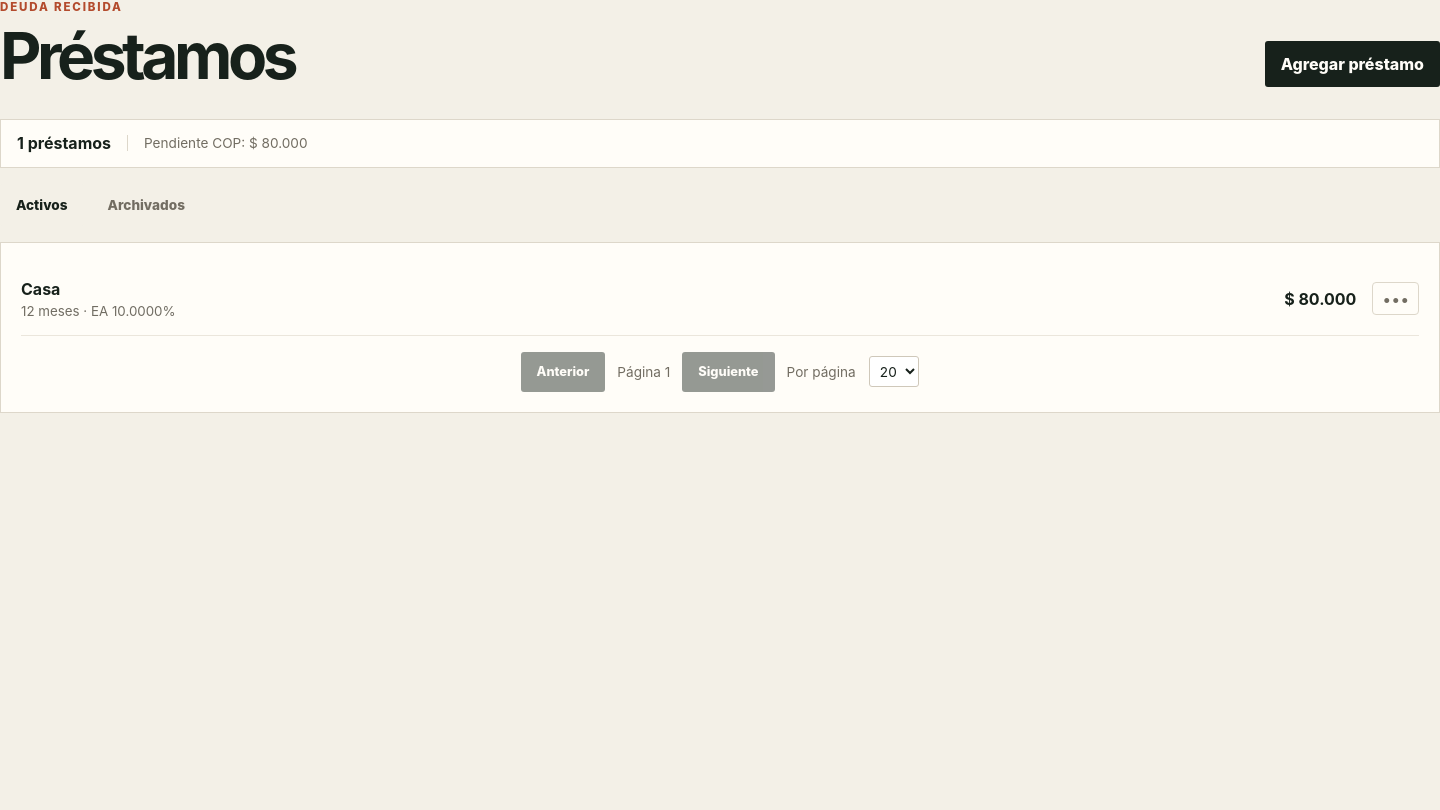
loan closing › only allows the loan name to be edited
expect the text "Casa" is shown: met, box [21, 279, 60, 299]
Click the heading named "Acciones" at (1396, 299), box [1372, 282, 1419, 315]
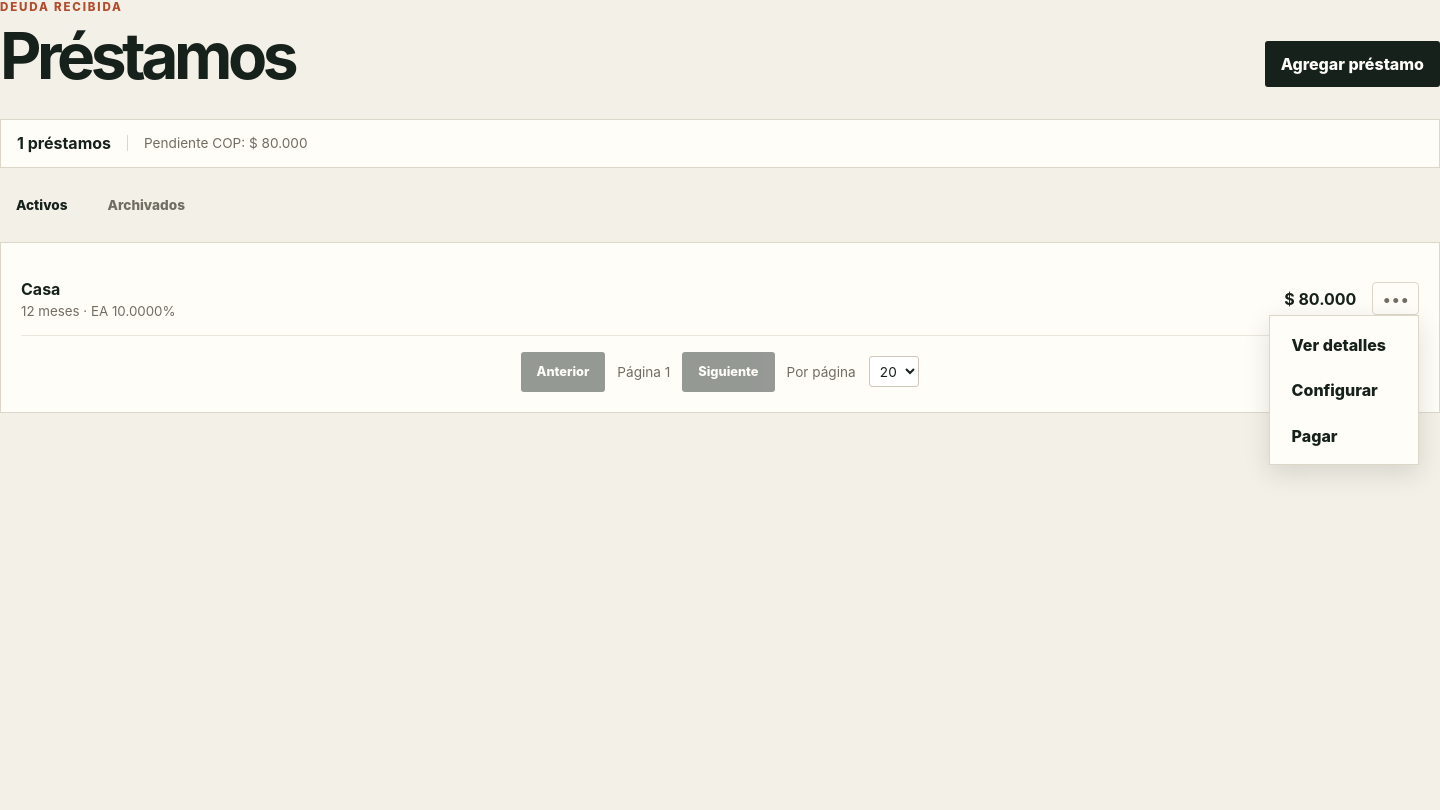
Click the button "Configurar" at (1344, 390), box [1276, 367, 1412, 413]
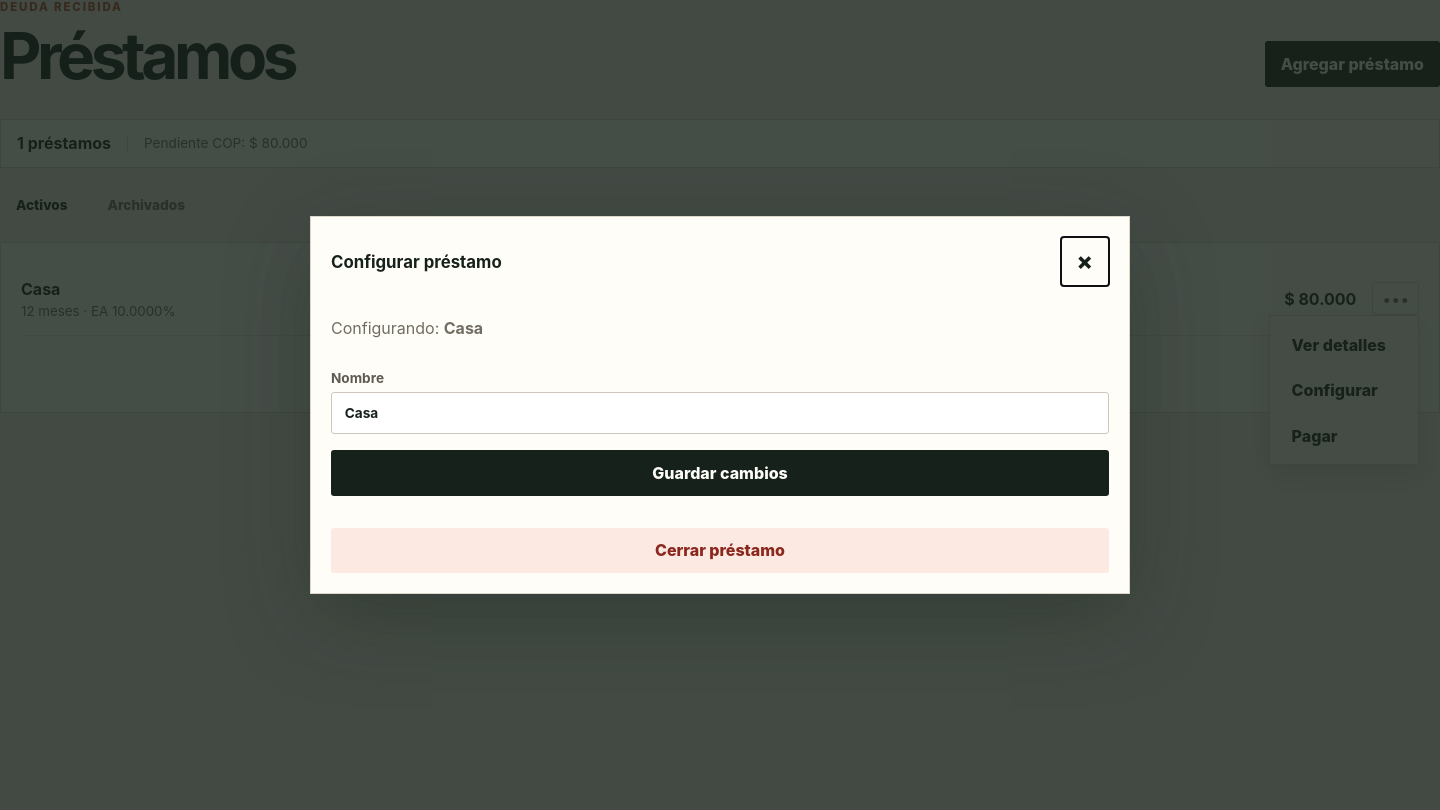
expect the field labelled "Nombre" is shown: met, box [331, 392, 1109, 434]
